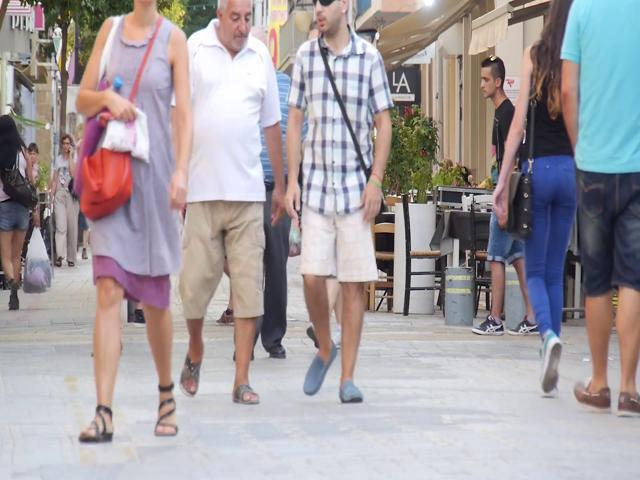shoe: (303, 342, 338, 395), (78, 405, 114, 443), (572, 378, 611, 413), (541, 331, 562, 393), (155, 384, 178, 436), (181, 343, 204, 395), (471, 315, 504, 335), (507, 316, 540, 336), (617, 391, 640, 417), (232, 384, 260, 404), (339, 380, 363, 403), (268, 344, 286, 358)
